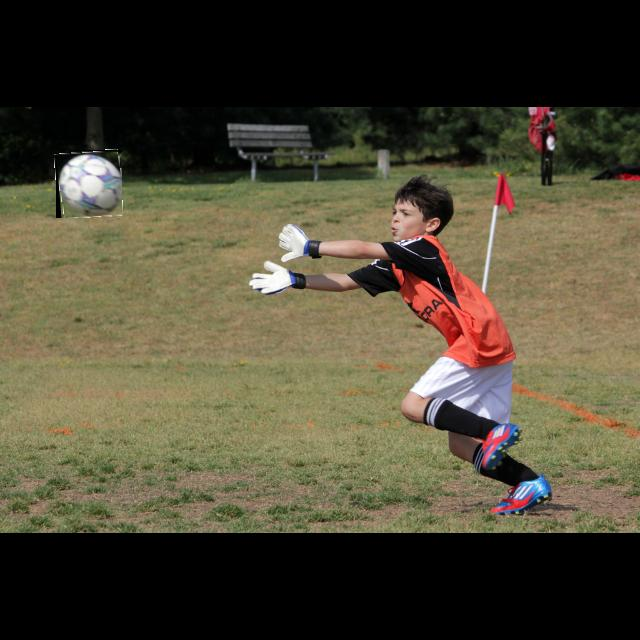Football: (56, 150, 122, 218)
